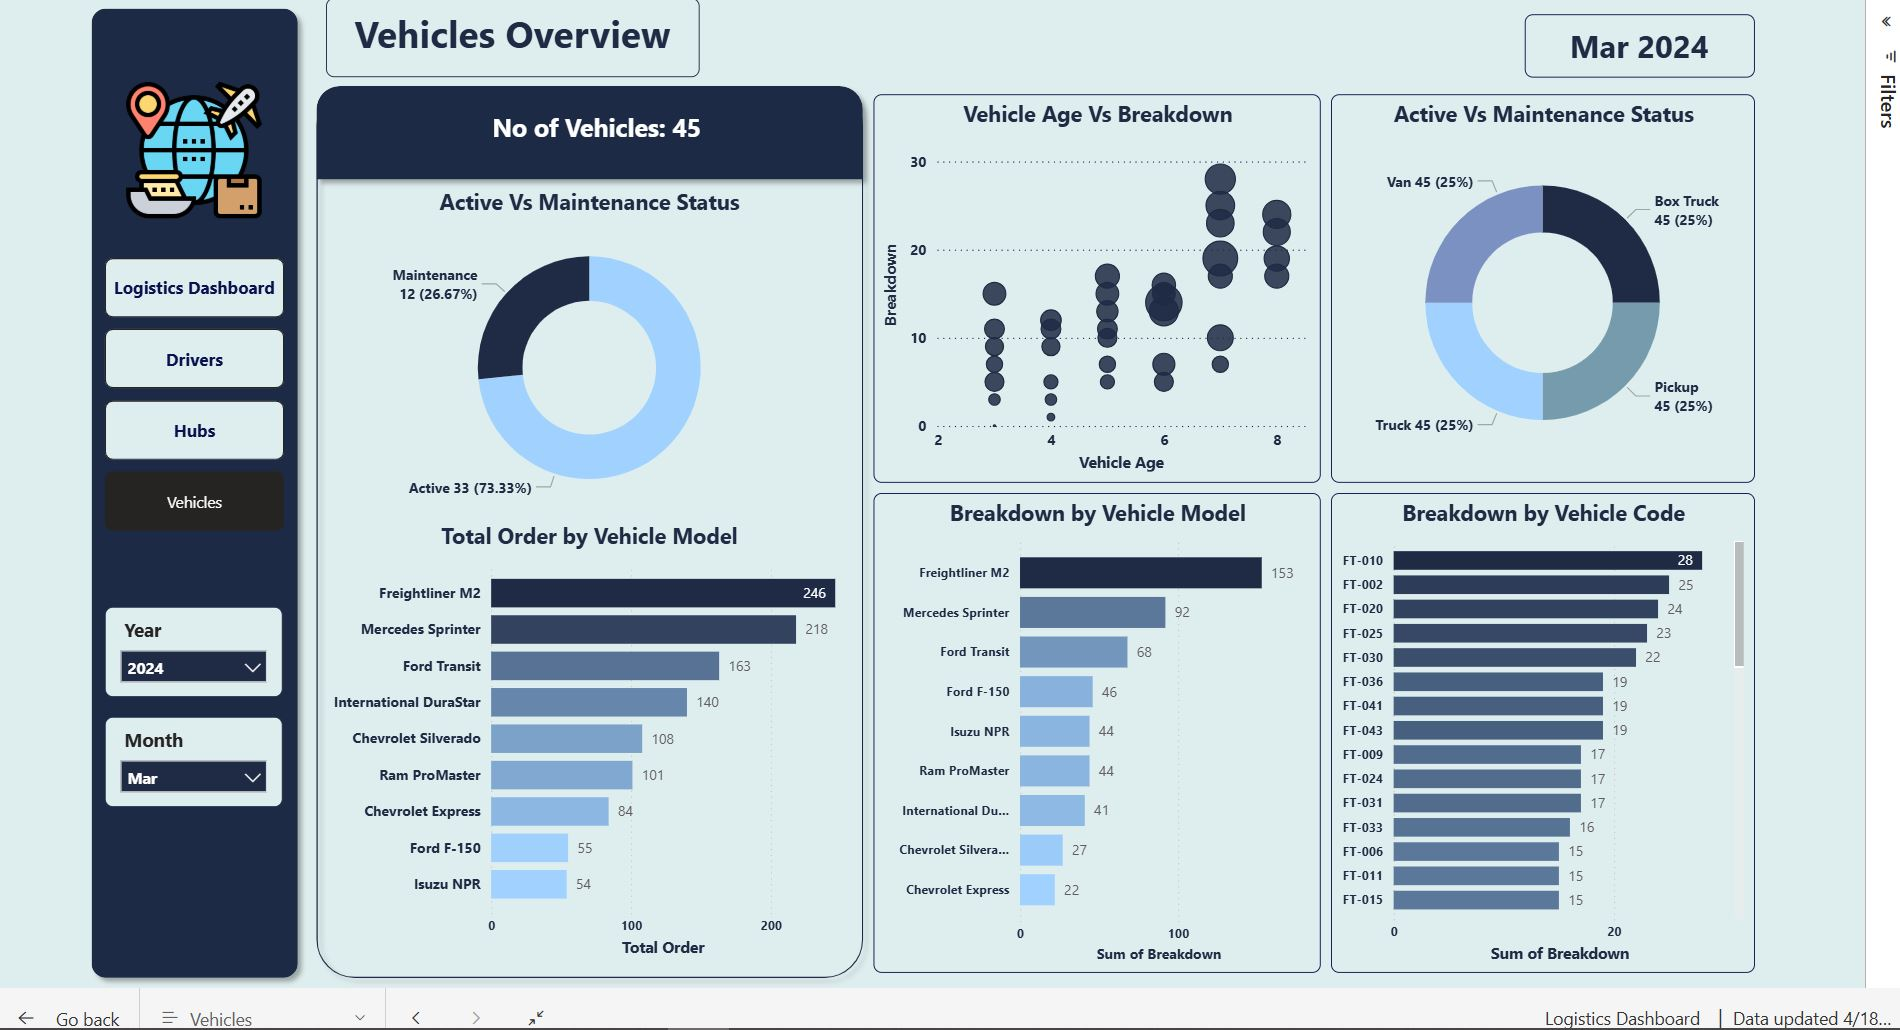

The dashboard page shown, as its layout file describes it:
{"tool":"powerbi","page":{"name":"Vehicles","canvas":[1450,850],"ordinal":3},"visuals":[{"type":"shape","box":[0,0,195.1,850.3],"z":0},{"type":"textbox","box":[210.8,0,320.5,68.4],"z":1000},{"type":"shape","box":[193.2,67.8,487.3,782.8],"z":2000},{"type":"shape","box":[193.7,66.9,487.1,98.3],"z":3000},{"type":"cardVisual","fields":{"Data":["Vehicles.No of Vehicles"]},"box":[353.2,82.6,188,48.4],"z":4000},{"type":"donutChart","title":"Active Vs Maintenance Status","fields":{"Category":["Vehicles.Vehicle Status"],"Y":["CountNonNull(Vehicles.Vehicle ID)"]},"box":[210.5,161.8,452.4,286.3],"z":5000},{"type":"barChart","title":"Total Order by Vehicle Model ","fields":{"Category":["Vehicles.Vehicle Model"],"Y":["Orders.Total Order"]},"box":[210.5,448.1,452.4,379.4],"z":6000},{"type":"scatterChart","title":"Vehicle Age Vs Breakdown","fields":{"X":["Vehicles.Vehicle Age"],"Y":["Vehicles.Breakdown"],"Size":["Sum(Vehicles.Breakdown)1"]},"box":[680,83,383.7,333.6],"z":7000},{"type":"clusteredBarChart","title":"Breakdown by Vehicle Code","fields":{"Category":["Vehicles.Vehicle Code"],"Y":["Sum(Vehicles.Breakdown)"]},"box":[1073.8,425.2,363.6,412.3],"z":8000},{"type":"clusteredBarChart","title":"Breakdown by Vehicle Model","fields":{"Category":["Vehicles.Vehicle Model"],"Y":["Sum(Vehicles.Breakdown)"]},"box":[680,425.2,383.7,412.3],"z":9000},{"type":"donutChart","title":"Active Vs Maintenance Status","fields":{"Category":["Orders.Vehicle Type"],"Y":["CountNonNull(Vehicles.Vehicle Status)"]},"box":[1073.8,83,363.6,333.6],"z":10000},{"type":"image","box":[28.6,65.9,136,130.3],"z":13000},{"type":"pageNavigator","box":[20,223.3,154.6,236.2],"z":14000},{"type":"cardVisual","fields":{"Data":["DATE.Year Month Value"]},"box":[1239.1,14.2,198,54.1],"z":15000},{"type":"slicer","fields":{"Values":["DATE.Year"]},"box":[20,522.6,153.2,77.3],"z":15001},{"type":"slicer","fields":{"Values":["DATE.Month"]},"box":[20,617.1,153.2,77.3],"z":15002}]}

Visuals, with their boxes on the page's 1450x850 design canvas (x1, y1, x2, y2). These are canvas units, not pixel positions in the 1900x1030 screenshot, which may show the page scaled, cropped or inside an application window:
shape: rect(0, 0, 195, 850)
textbox: rect(211, 0, 531, 68)
shape: rect(193, 68, 680, 851)
shape: rect(194, 67, 681, 165)
cardVisual - Vehicles.No of Vehicles: rect(353, 83, 541, 131)
"Active Vs Maintenance Status" donutChart: rect(210, 162, 663, 448)
"Total Order by Vehicle Model " barChart: rect(210, 448, 663, 828)
"Vehicle Age Vs Breakdown" scatterChart: rect(680, 83, 1064, 417)
"Breakdown by Vehicle Code" clusteredBarChart: rect(1074, 425, 1437, 838)
"Breakdown by Vehicle Model" clusteredBarChart: rect(680, 425, 1064, 838)
"Active Vs Maintenance Status" donutChart: rect(1074, 83, 1437, 417)
image: rect(29, 66, 165, 196)
pageNavigator: rect(20, 223, 175, 460)
cardVisual - DATE.Year Month Value: rect(1239, 14, 1437, 68)
slicer - DATE.Year: rect(20, 523, 173, 600)
slicer - DATE.Month: rect(20, 617, 173, 694)
